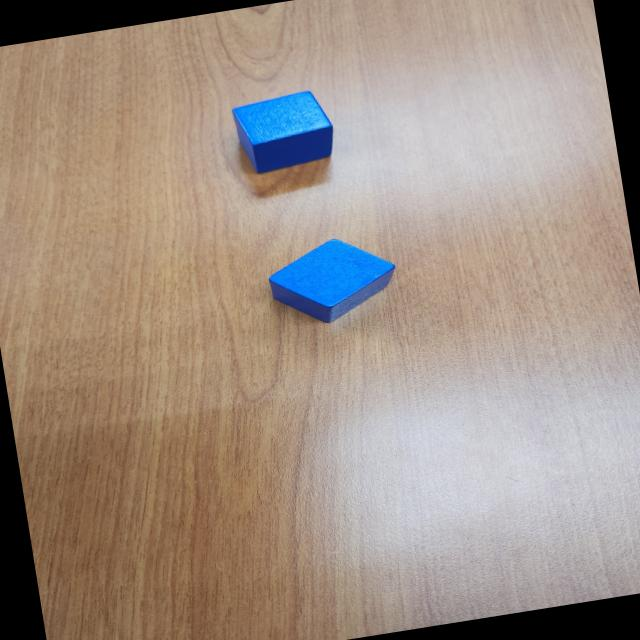blue: (265, 230, 404, 332), (230, 86, 340, 177)
